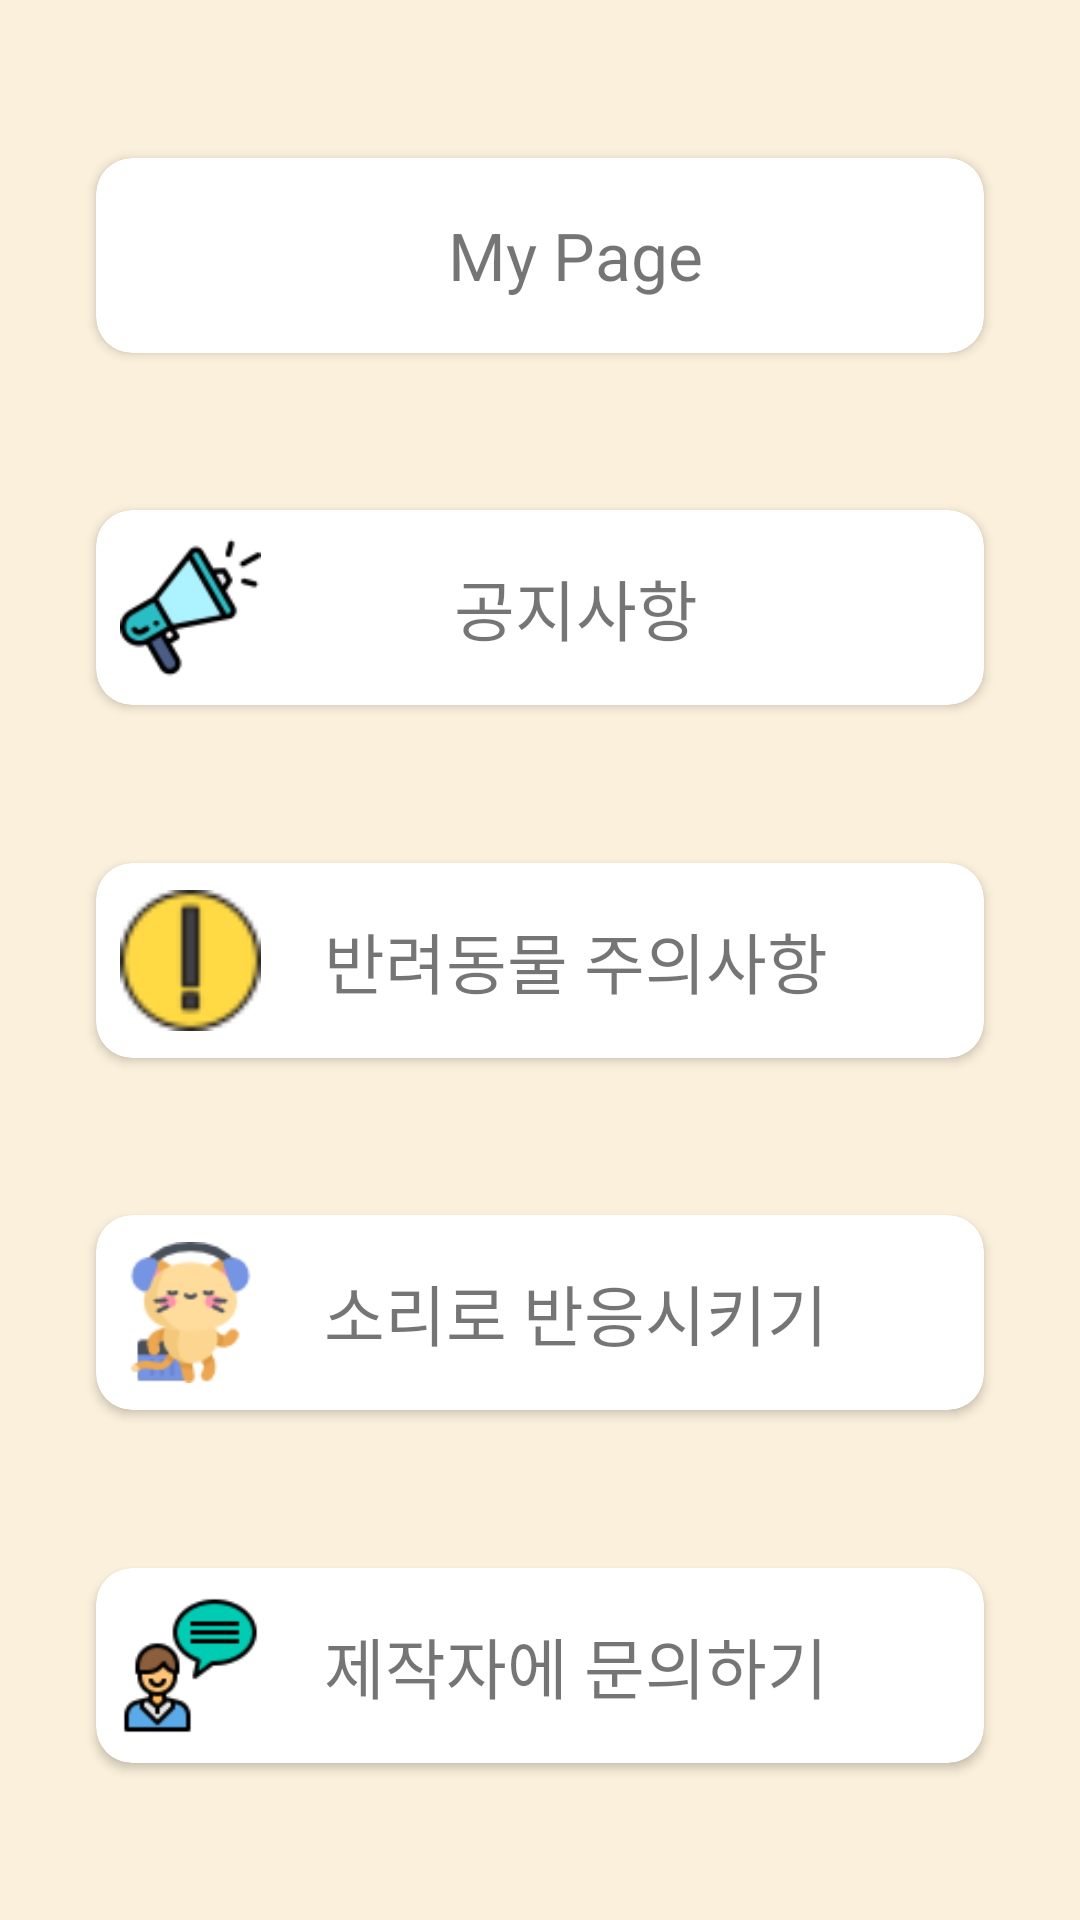

Screen size 1080*1920. Icon name, then its center in pixels as [x,y]:
announce: [178,607]
ask: [178,1665]
catmusic: [178,1312]
